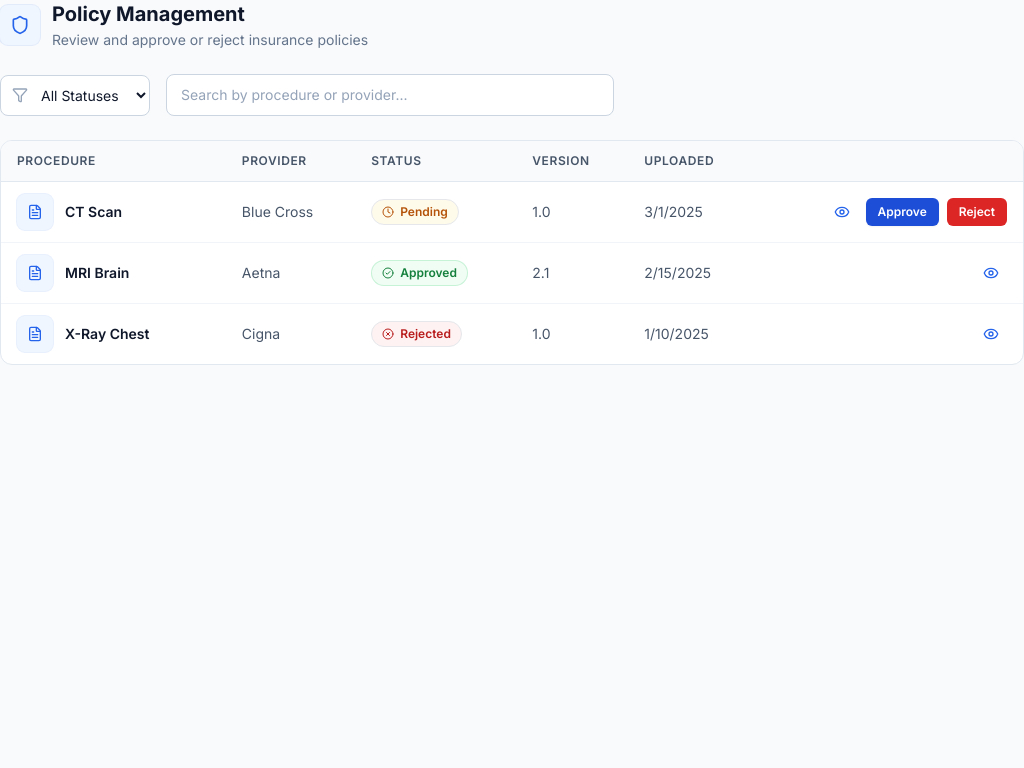
Test: PolicyManagement › opens action modal on Approve click
Expected: the text "CT Scan" is shown, [65,202,122,222]
Click the button "Approve" at (902, 212), box [866,198,939,226]
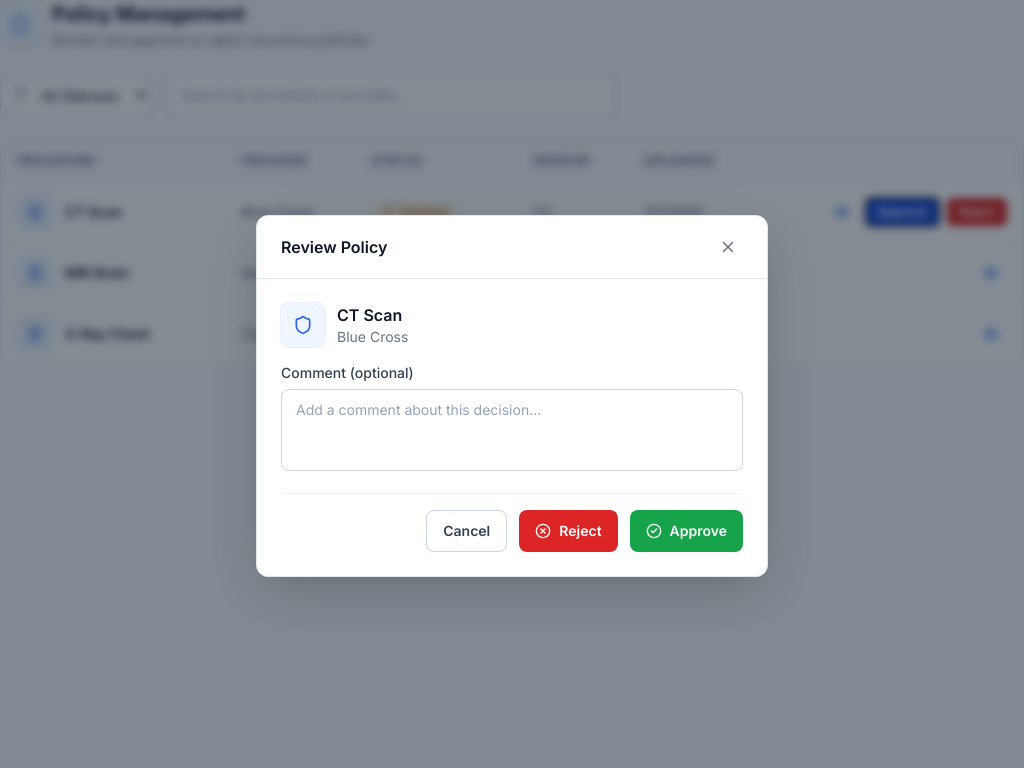
Now the heading "Review Policy" is shown, box [281,235,387,259]
